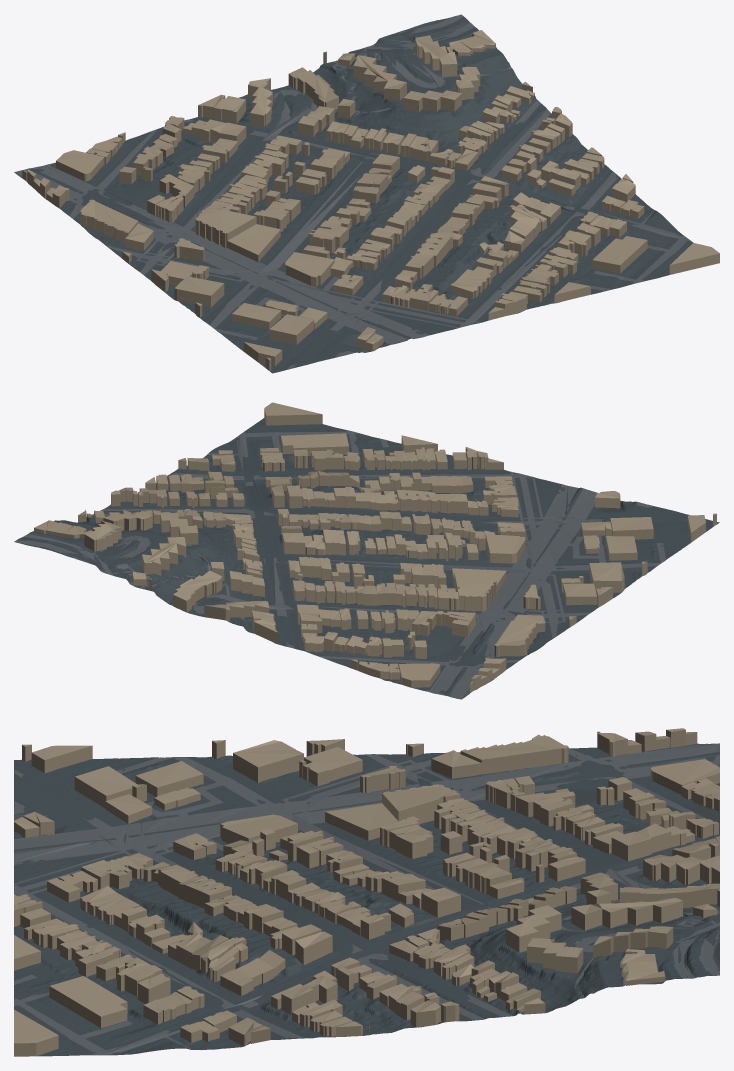
Rendered from epsg26910-1442-10877.lod0.glb.
3 views of the same model, one above another, from view 1: azimuth 30°, elevation 25°; view 2: azimuth 150°, elevation 25°; view 3: azimuth 270°, elevation 25° (orthographic). The views are drawn at different scales.
Parts seen in each view (by area): view 1: epsg26910-1442-10877-lod0; view 2: epsg26910-1442-10877-lod0; view 3: epsg26910-1442-10877-lod0.
Boxes of the visible parts, x1,y1,x2,y2 form: epsg26910-1442-10877-lod0: [14, 14, 719, 373]; epsg26910-1442-10877-lod0: [14, 402, 719, 699]; epsg26910-1442-10877-lod0: [14, 728, 719, 1056].
Size of the model in its own units: 384 by 57.74 by 384.
